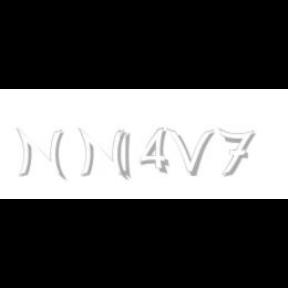4: (138, 128, 170, 174)
7: (218, 128, 255, 178)
I: (119, 128, 132, 180)
N: (78, 128, 127, 180), (16, 128, 64, 180)
V: (167, 128, 215, 176)
